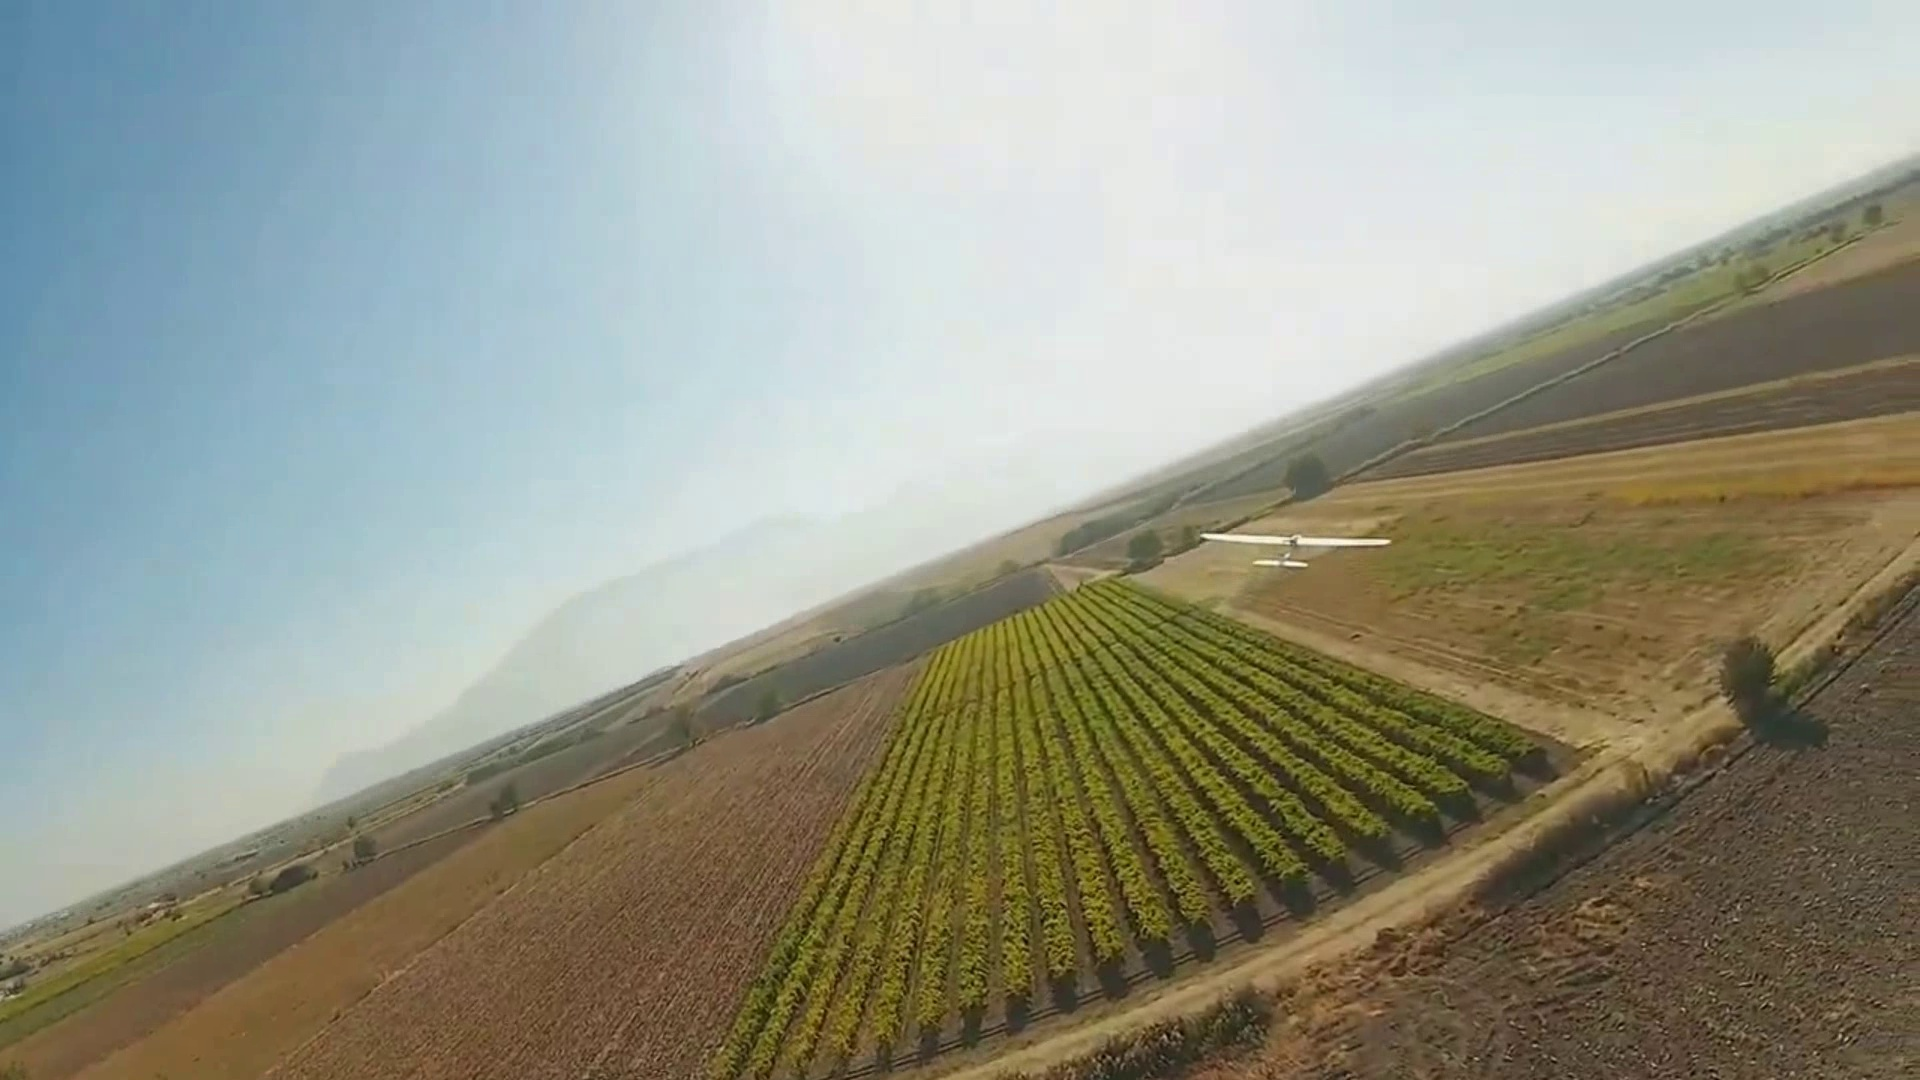airplane: (16, 146, 1916, 1040)
